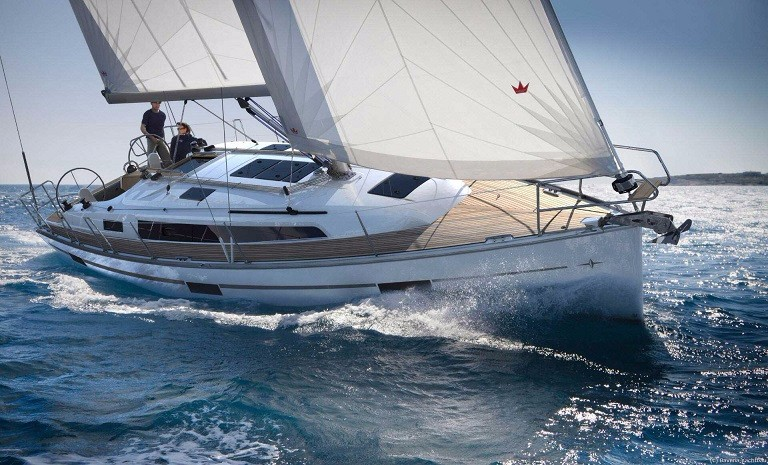boat: (37, 1, 660, 329)
person: (143, 102, 170, 162), (172, 123, 196, 161)
